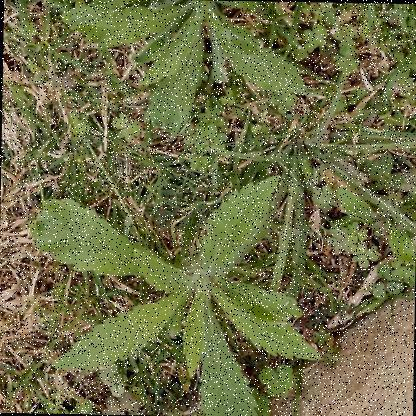Weeds: (24, 169, 328, 415), (56, 0, 309, 137)
